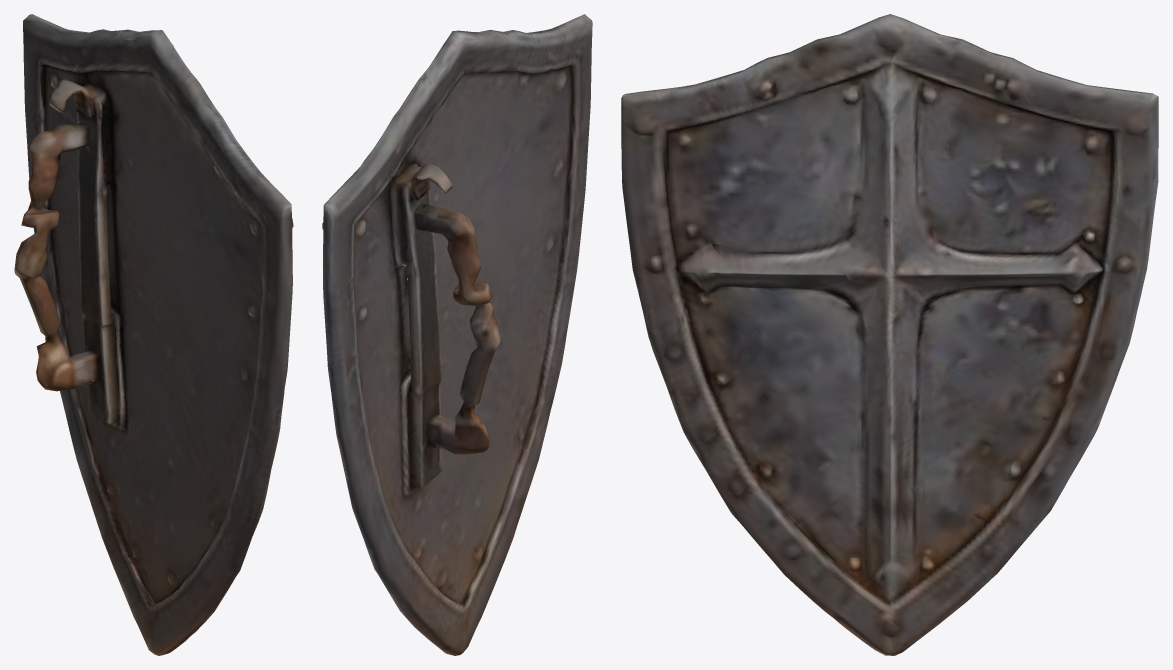
Rendered from shld_steel.glb.
The picture shows the model from 3 angles, left to right: view 1: azimuth 30°, elevation 25°; view 2: azimuth 150°, elevation 25°; view 3: azimuth 270°, elevation 25°; orthographic projection. The views are drawn at different scales.
Parts seen in each view (by area): view 1: tripo_node_38494795-c20d-43c4-8427-b8a2391c73a1; view 2: tripo_node_38494795-c20d-43c4-8427-b8a2391c73a1; view 3: tripo_node_38494795-c20d-43c4-8427-b8a2391c73a1.
Part boxes in pixels (bbox=[...]): tripo_node_38494795-c20d-43c4-8427-b8a2391c73a1: bbox=[14, 14, 293, 655]; tripo_node_38494795-c20d-43c4-8427-b8a2391c73a1: bbox=[322, 14, 592, 655]; tripo_node_38494795-c20d-43c4-8427-b8a2391c73a1: bbox=[621, 14, 1158, 655].
Size of the model in its own units: 0.0995 by 0.5 by 0.3808.
Materials: 1 (1 with a texture image).
